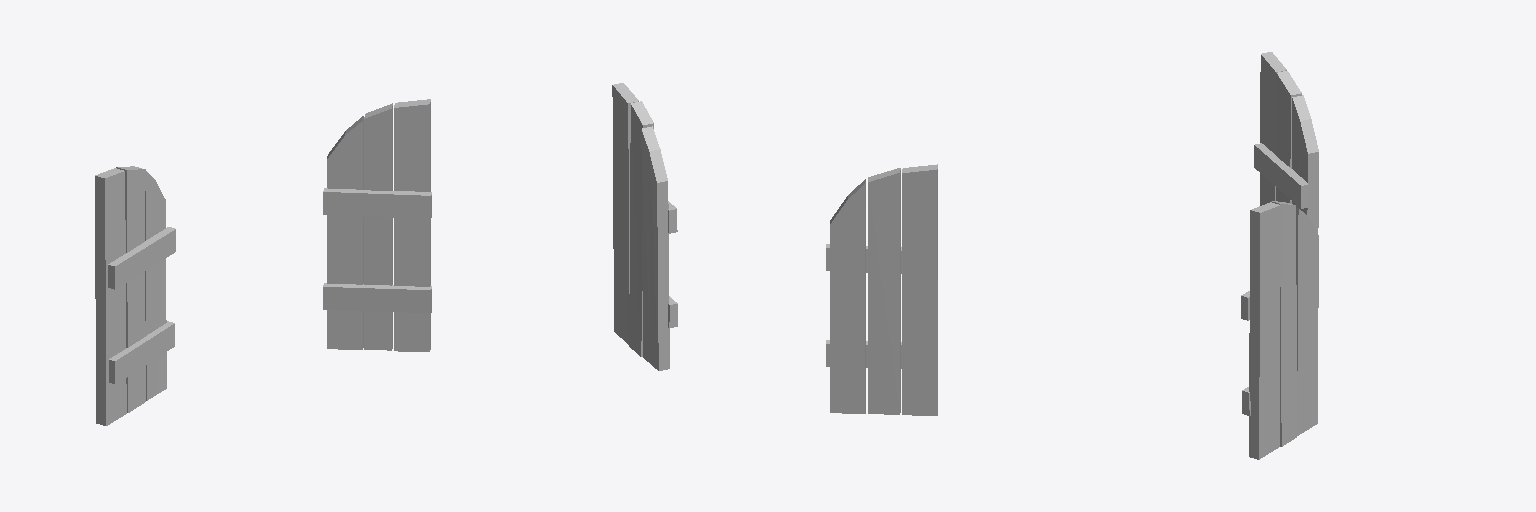
Rendered from WindowShutters_Wide_Round_Open.obj.
3 views of the same model, side by side, from view 1: azimuth 30°, elevation 25°; view 2: azimuth 150°, elevation 25°; view 3: azimuth 270°, elevation 25° (orthographic).
Visible parts, largest first — view 1: WindowShutters_Wide_Round_Open; view 2: WindowShutters_Wide_Round_Open; view 3: WindowShutters_Wide_Round_Open.
Boxes of the visible parts, x1=… form: WindowShutters_Wide_Round_Open: x1=95, y1=99, x2=431, y2=425; WindowShutters_Wide_Round_Open: x1=612, y1=83, x2=937, y2=415; WindowShutters_Wide_Round_Open: x1=1241, y1=52, x2=1318, y2=459.
Size of the model in its own units: 2.3 by 1.65 by 0.4724.